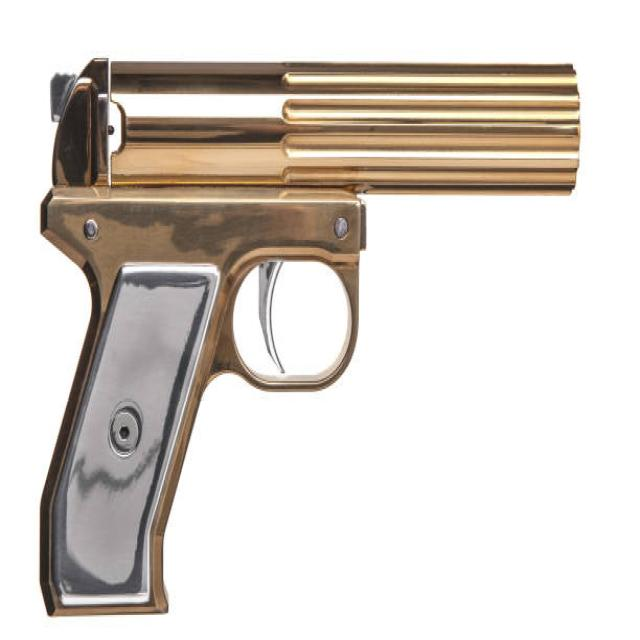pistol: (36, 54, 585, 632)
